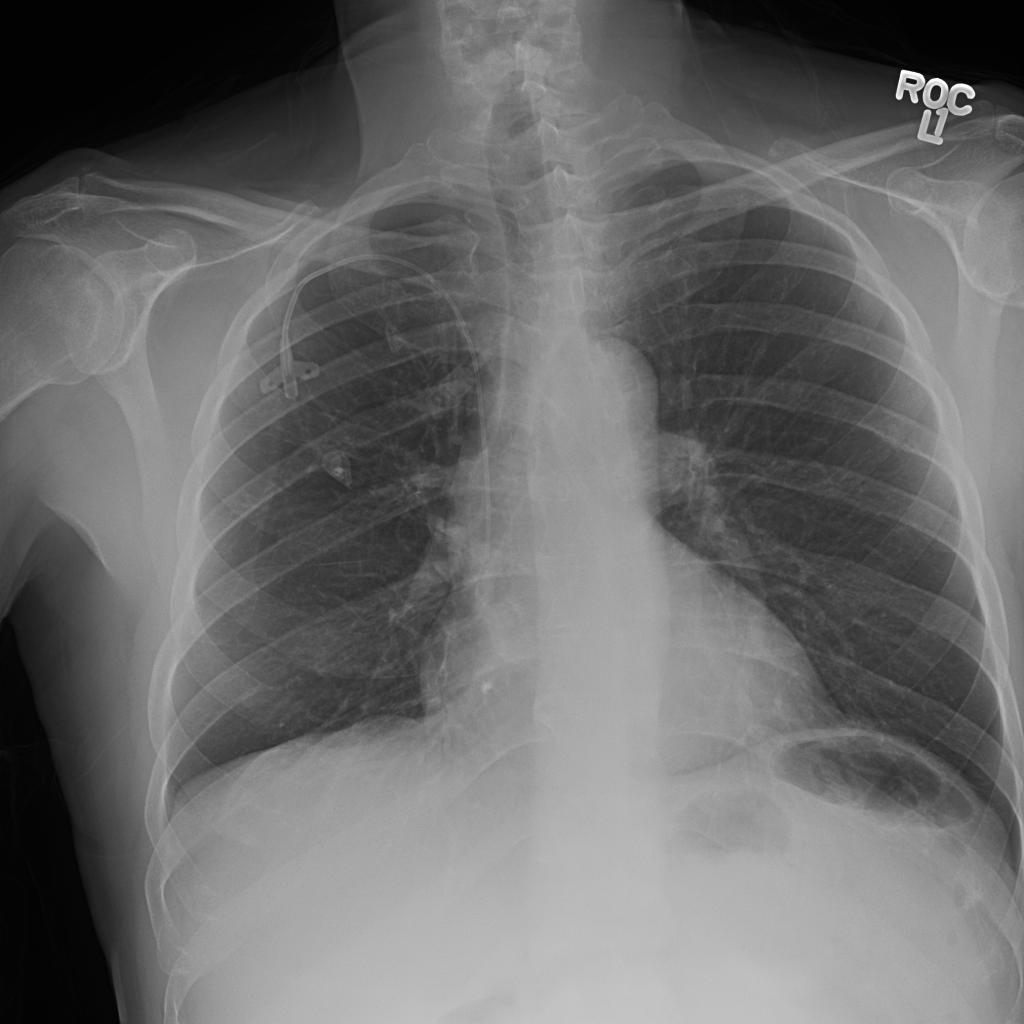Nodule: (387, 169, 432, 210), (289, 206, 324, 236)
